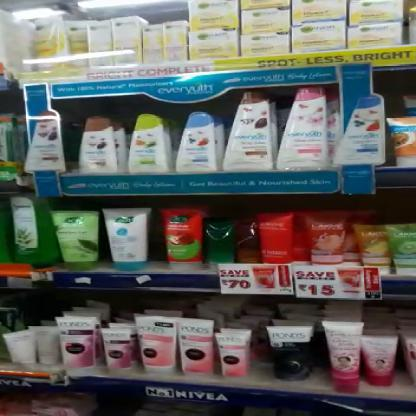Everyuth Naturals Body Lotion Nourishing Cocoa 200ml: (223, 93, 272, 172), (84, 119, 126, 174)
Everyuth Naturals Body Lotion Rejuvenating Flora 200ml: (278, 88, 331, 171)
Everyuth Naturals Body Lotion Soothing Citrus 200ml: (127, 116, 176, 172)
Everyuth Naturals Body Lotion Sun Care Berries SPF 15 200ml: (175, 114, 219, 173)
